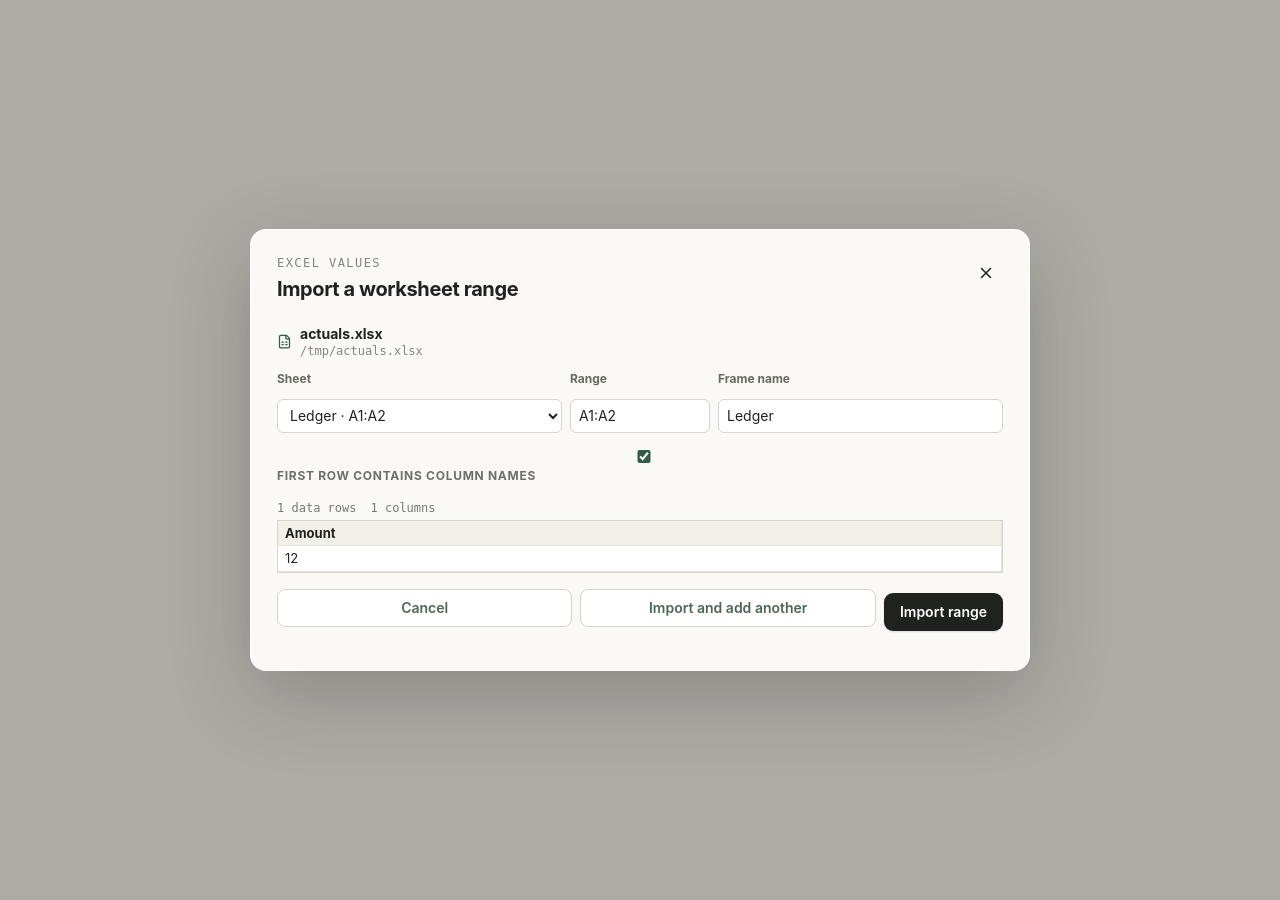
Test: ExcelImportDialog › cannot import a stale preview after the selection changes
expect the text "12" is shown: met, box [278,546,1002,572]
Clear the field labelled "Range" at (640, 416), box [570,399,710,433]
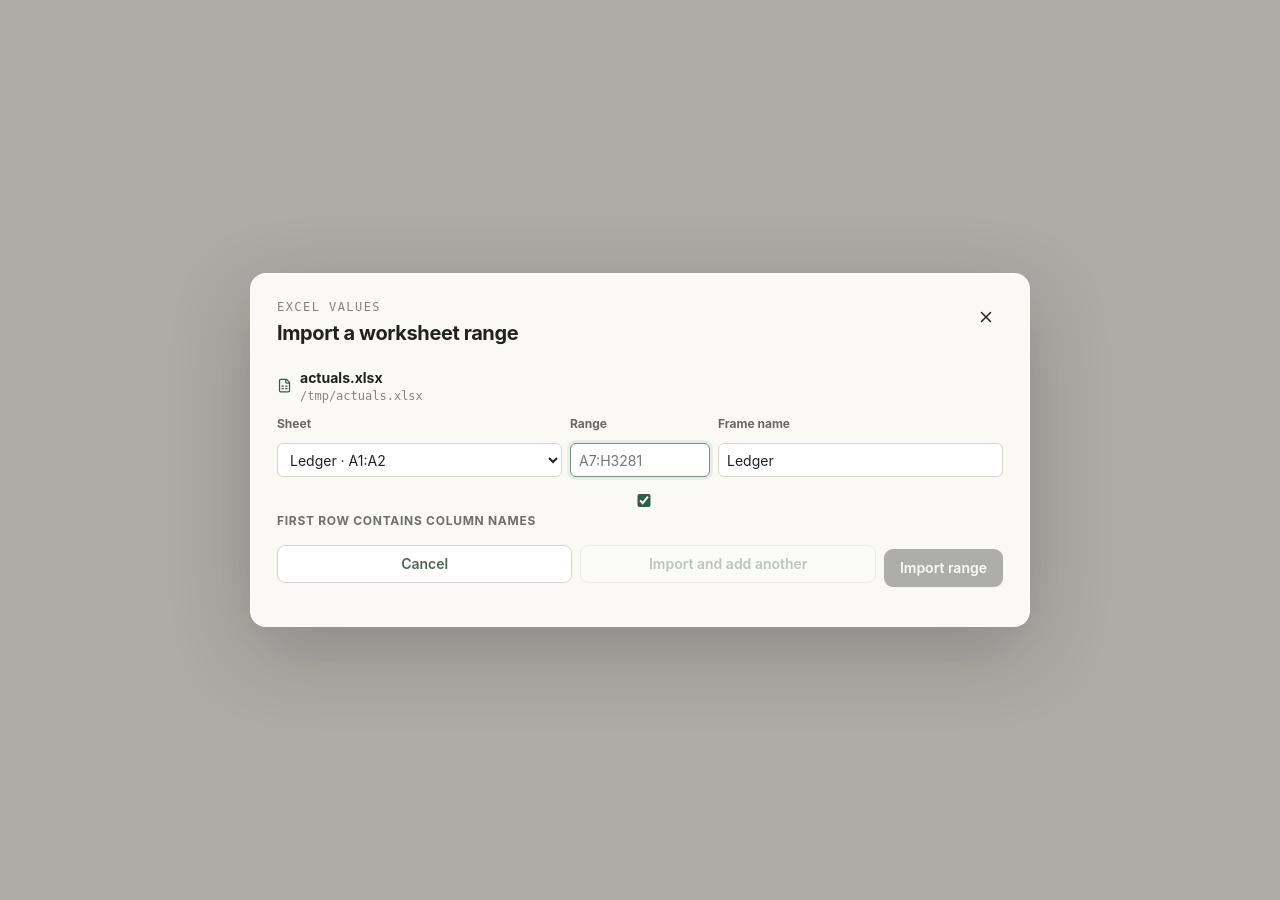
expect the button "Import range" is disabled: met, box [884,549,1003,587]
